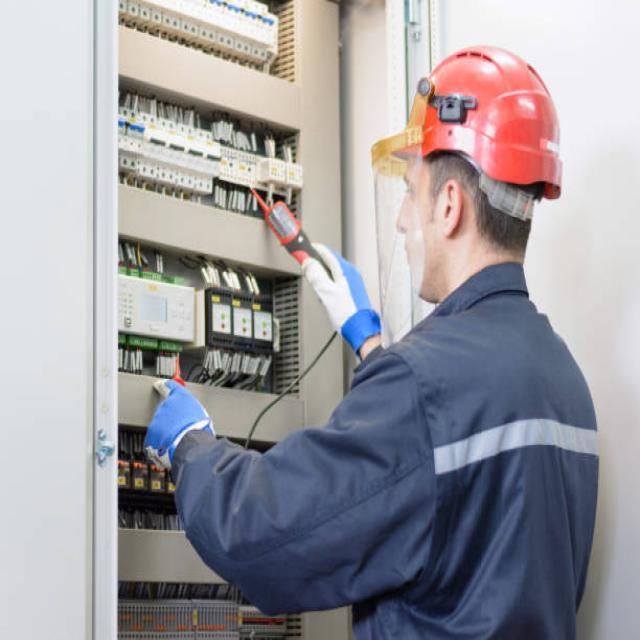Gloves: (293, 235, 398, 348), (139, 370, 219, 476)
helmet: (368, 37, 571, 230)
person: (142, 42, 603, 640)
